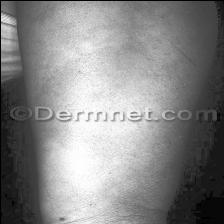Toxin: (52, 8, 178, 107), (61, 126, 167, 167)
